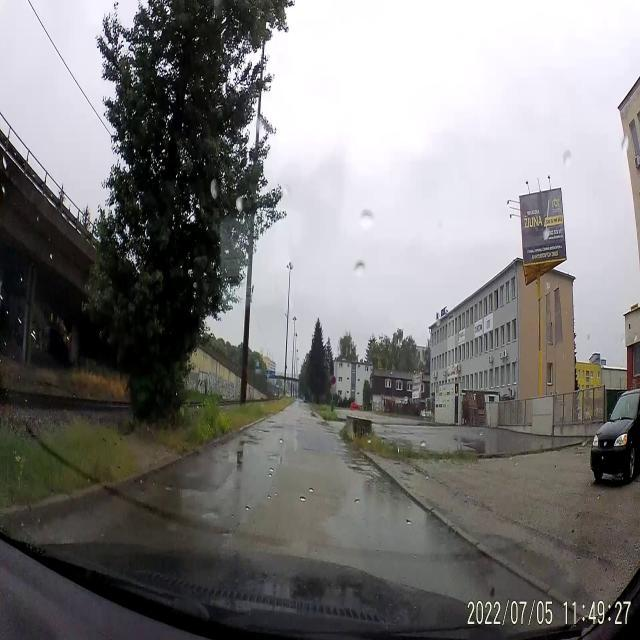Manhole: (268, 424, 282, 428), (268, 421, 276, 424)
Pothole: (364, 480, 378, 490), (239, 440, 261, 446), (266, 452, 280, 460), (252, 428, 270, 434), (304, 447, 314, 452), (280, 455, 284, 466)
